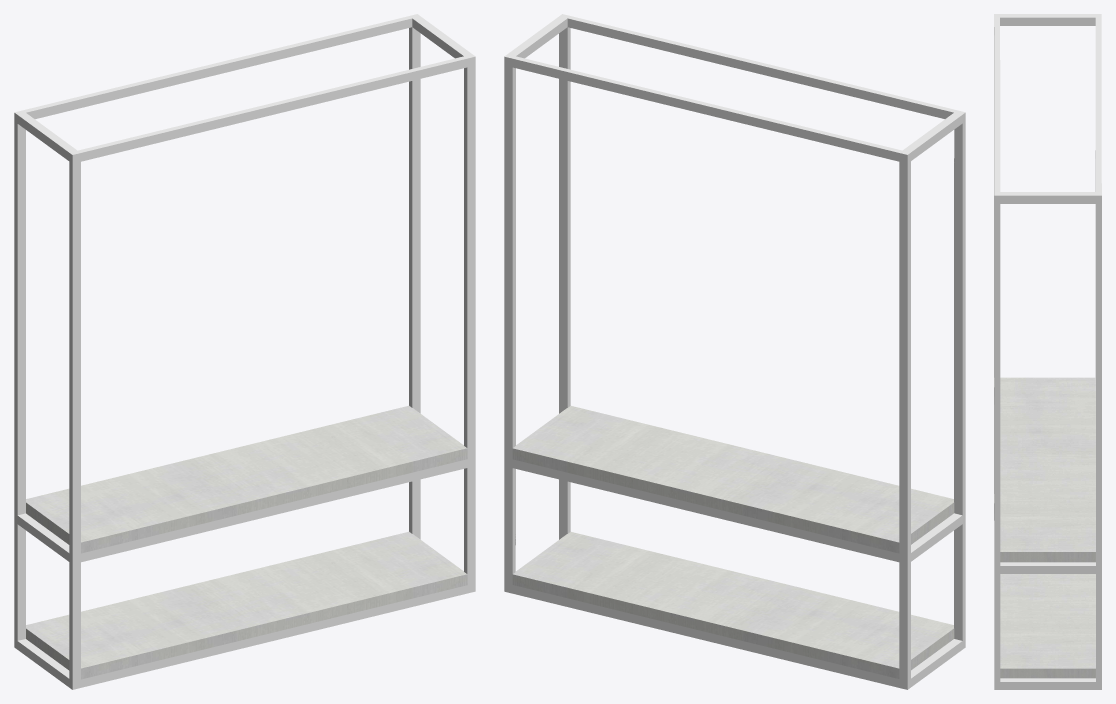
The model's file is wall_shelf.glb.
The picture shows the model from 3 angles, left to right: view 1: azimuth 30°, elevation 25°; view 2: azimuth 150°, elevation 25°; view 3: azimuth 270°, elevation 25°; orthographic projection. The views are drawn at different scales.
Parts seen in each view (by area): view 1: Shelf 1; view 2: Shelf 1; view 3: Shelf 1.
Part boxes in pixels (x1,y1,x2,y2): Shelf 1: (14,14,475,689); Shelf 1: (504,14,965,689); Shelf 1: (994,14,1101,689).
Bounding box in the file's own units: 1.2 × 1.52 × 0.3004.
3 materials, 1 textured.
